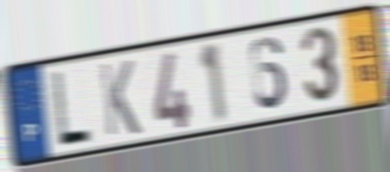1: (198, 39, 230, 127)
3: (299, 24, 340, 107)
4: (151, 46, 194, 132)
6: (248, 35, 290, 113)
K: (97, 57, 143, 139)
L: (48, 67, 94, 147)
